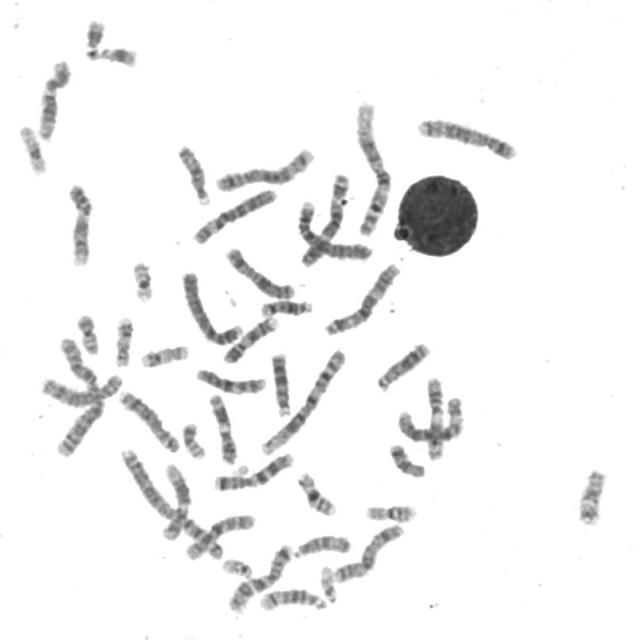A1: (256, 343, 350, 458), (351, 95, 395, 237)
A2: (114, 442, 230, 562), (49, 331, 107, 458)
A3: (320, 256, 404, 338), (297, 169, 353, 269)
B4: (178, 265, 245, 346), (294, 196, 375, 262)
B5: (414, 112, 521, 162), (212, 142, 319, 192)
C10: (181, 507, 257, 562), (192, 362, 270, 396)
C11: (205, 388, 240, 466), (422, 372, 449, 462)
C12: (34, 54, 74, 142), (156, 458, 192, 542)
C6: (189, 182, 280, 246), (393, 390, 469, 446)
C7: (224, 538, 296, 612), (211, 446, 297, 493)
C8: (115, 384, 183, 454), (36, 367, 127, 408)
C9: (220, 310, 282, 364), (63, 178, 96, 268)
D13: (373, 336, 434, 393), (268, 346, 295, 418)
D14: (256, 582, 331, 613), (256, 293, 316, 318)
D15: (174, 138, 214, 208), (289, 529, 354, 559)
E16: (293, 466, 341, 518), (362, 498, 421, 524)
E17: (136, 338, 193, 369), (111, 311, 136, 369)
E18: (574, 464, 610, 526), (385, 438, 429, 479)
F19: (14, 119, 51, 176), (128, 255, 157, 305)
F20: (72, 307, 104, 355), (178, 416, 210, 461)
G21: (97, 39, 142, 70), (82, 12, 108, 50)
G22: (316, 559, 340, 604), (218, 553, 256, 579)
X: (329, 518, 407, 585), (221, 242, 299, 300)
